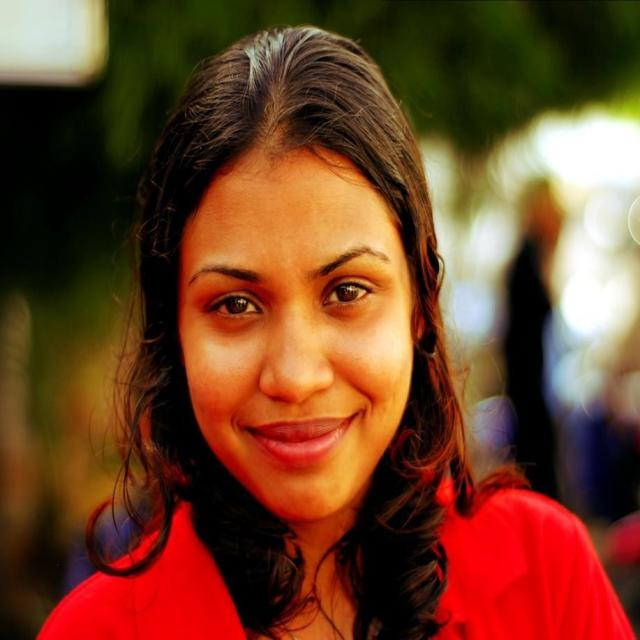no-glass: (202, 270, 384, 319)
